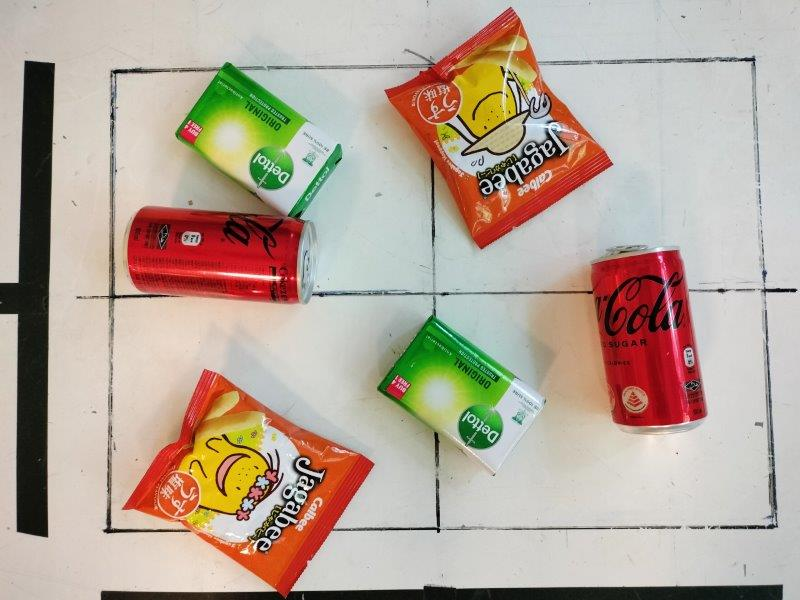Coke: (590, 242, 711, 437), (123, 204, 317, 305)
Dettol: (378, 314, 547, 474), (175, 64, 343, 220)
Jagabee: (122, 372, 377, 593), (387, 8, 614, 248)
